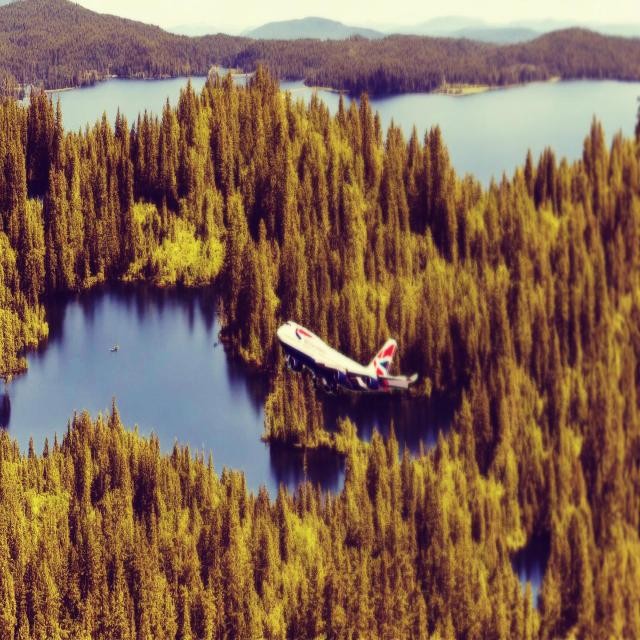airplane: (276, 319, 418, 396)
